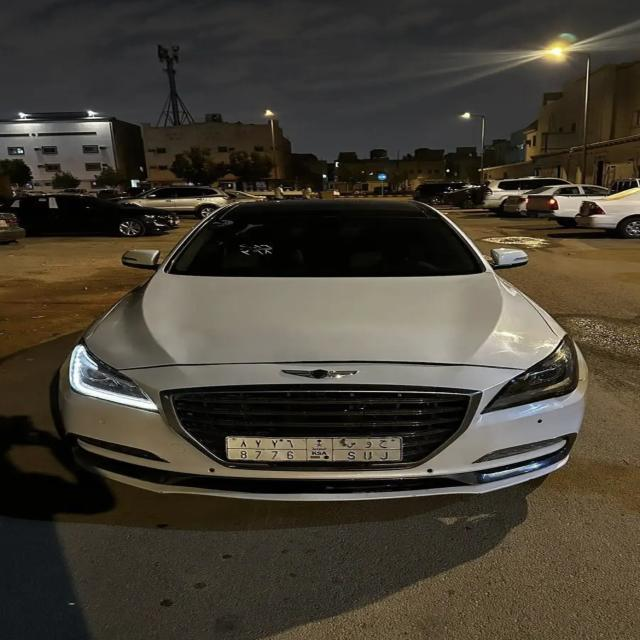license_plate: (226, 437, 404, 462)
